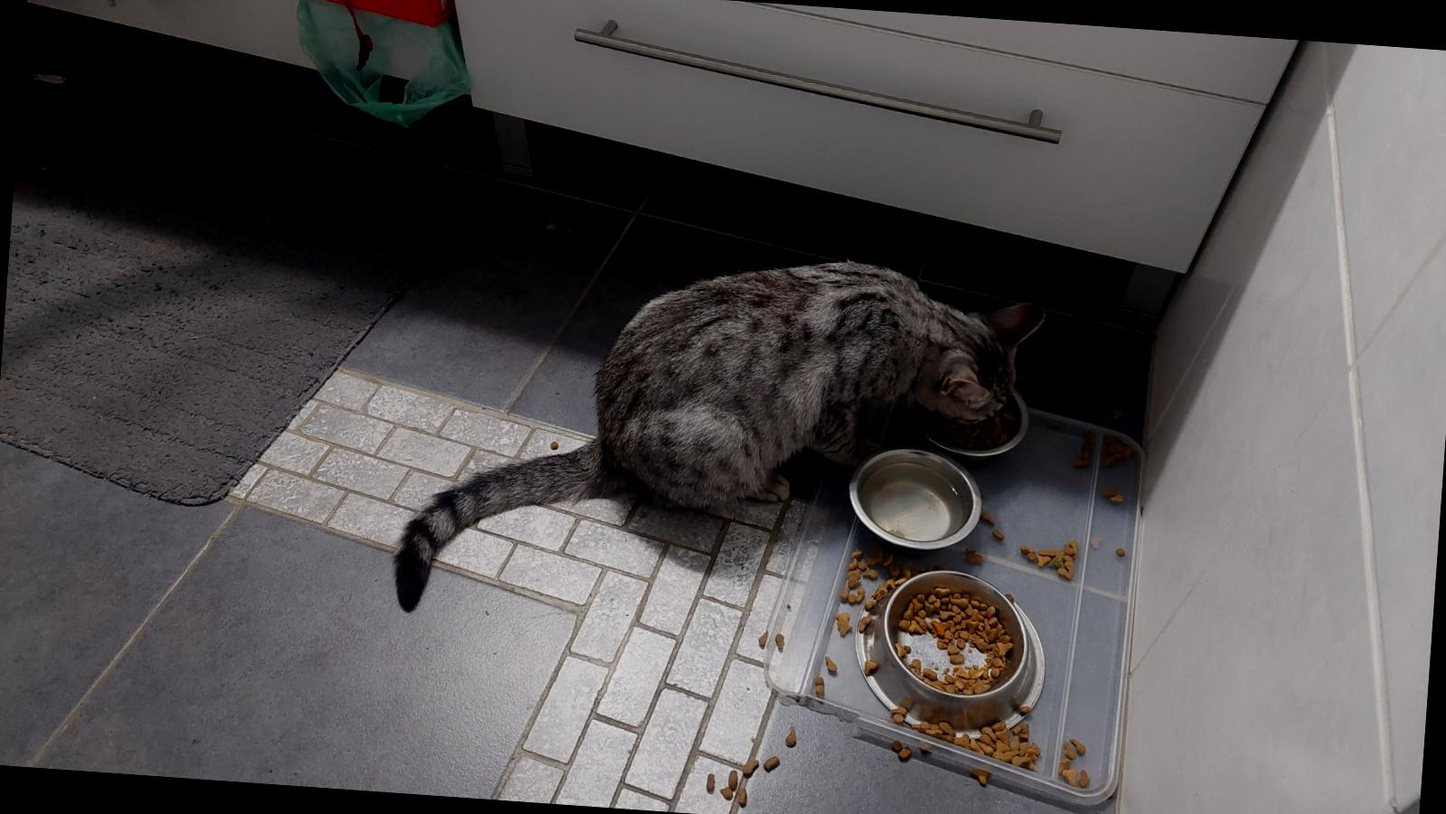macka: (387, 226, 1050, 653)
